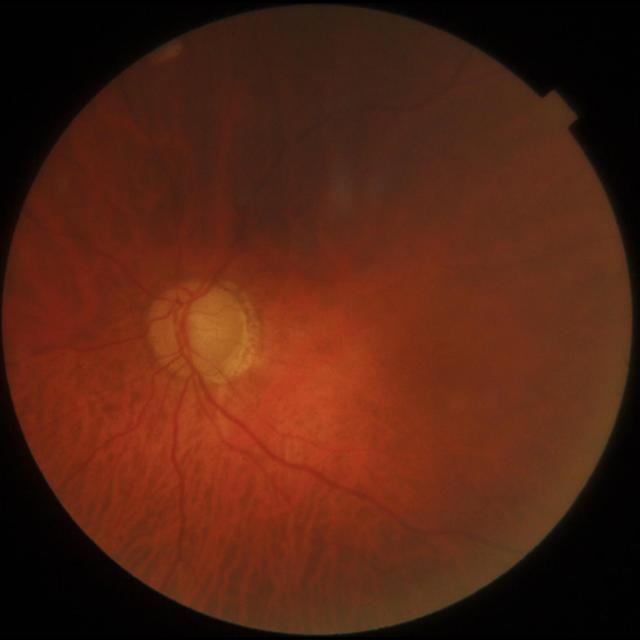OD: (150, 286, 246, 374)
